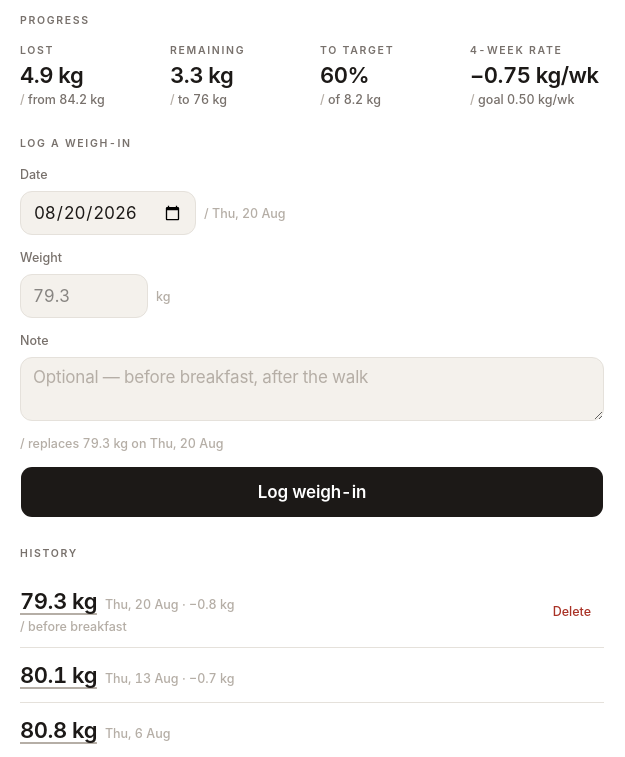
editing a past entry › replaces the row rather than adding one beside it
(page scrolled)
Click the button "80.1 kg Thu, 13 Aug · −0.7 kg".
click(58, 675)  # box [20, 648, 604, 702]
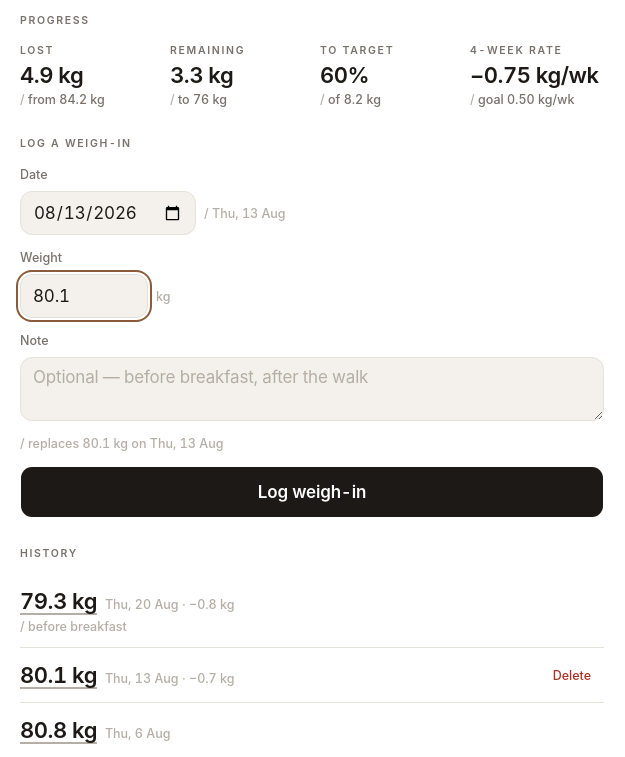
Replace the text in the field labelled "Weight" with "80.4" at (84, 296), box [20, 274, 148, 318]
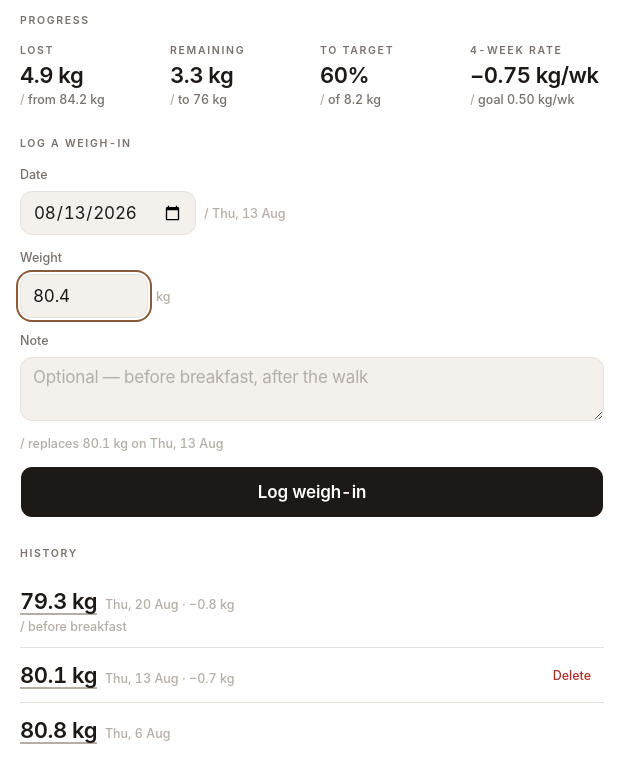
Click the button "Log weigh-in".
click(312, 492)  # box [20, 466, 604, 518]
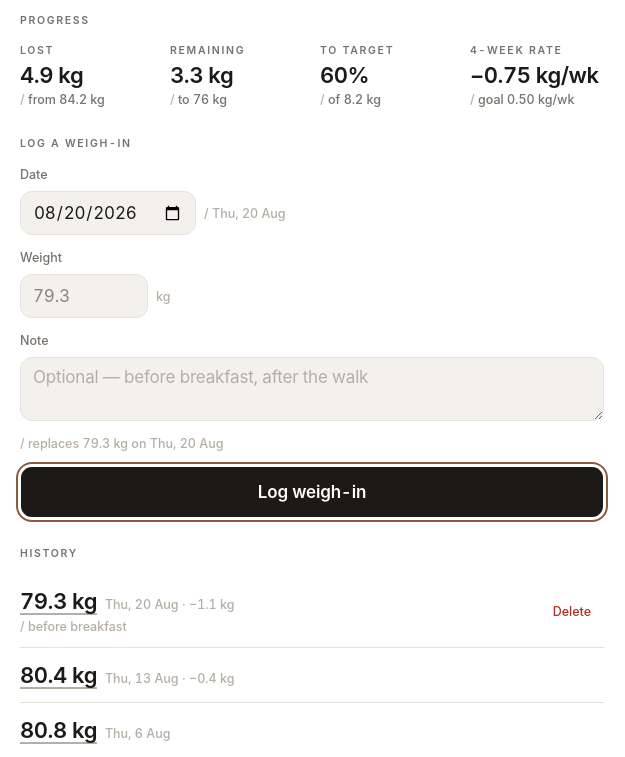
Expected: the number of list items is 3, [20, 576, 604, 648]; [20, 648, 604, 703]; [20, 703, 604, 756]
Now the list item "80.4 kg Thu, 13 Aug · −0.4 kg" is shown, box [20, 648, 604, 703]
